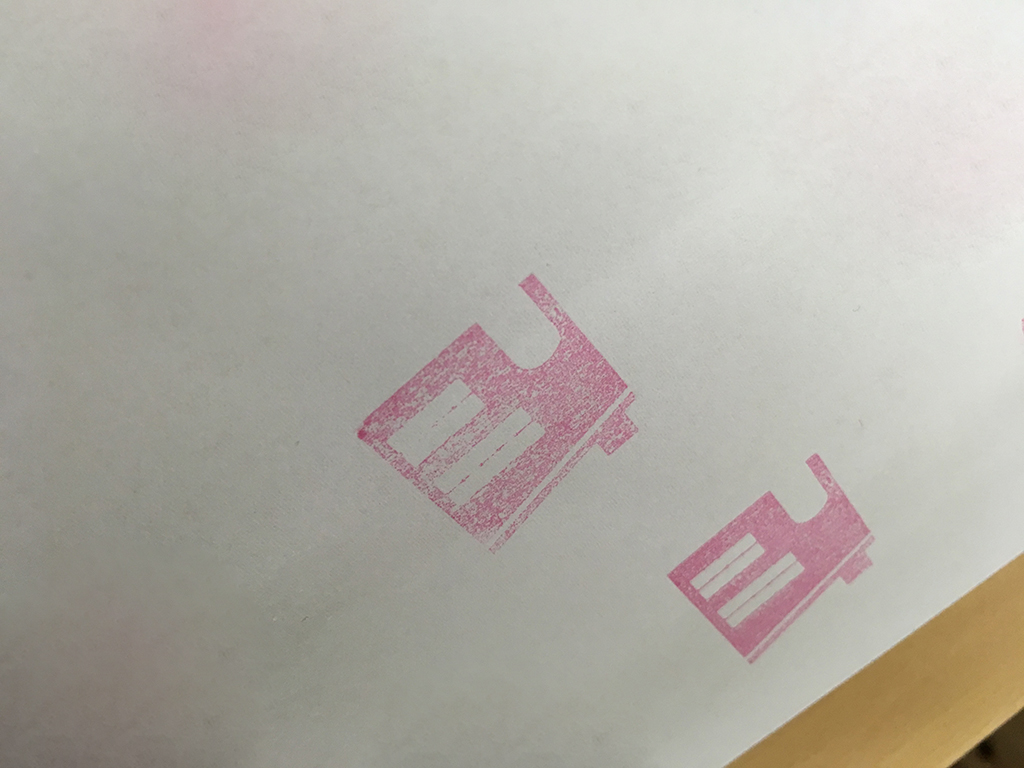house: (330, 256, 657, 558), (661, 445, 886, 669)
